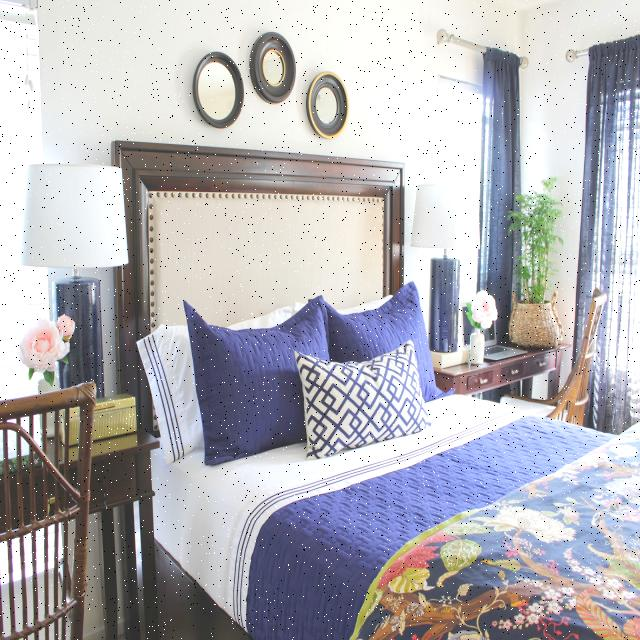bed: (143, 278, 639, 640)
